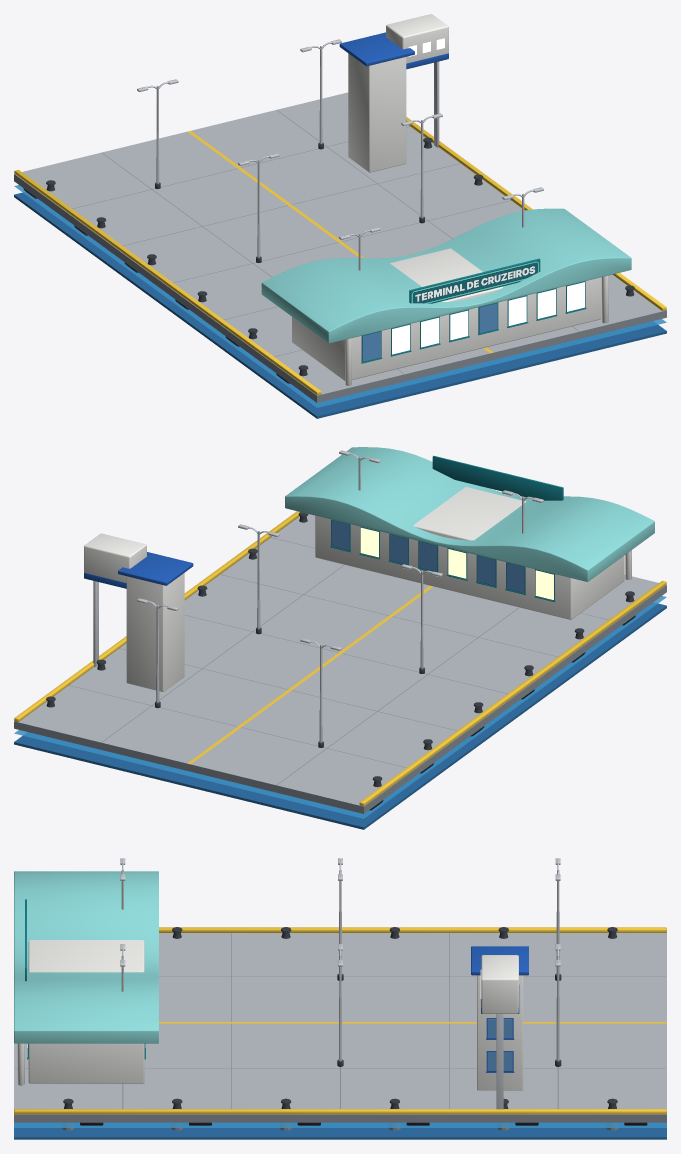
Rendered from pier_cruzeiro.glb.
3 renders of one model, top to bottom at view 1: azimuth 30°, elevation 25°; view 2: azimuth 150°, elevation 25°; view 3: azimuth 270°, elevation 25°, orthographic. The views are drawn at different scales.
Visible parts, largest first — view 1: pier_cruzeiro; view 2: pier_cruzeiro; view 3: pier_cruzeiro.
Boxes of the visible parts, x1,y1,x2,y2 form: pier_cruzeiro: (14, 14, 666, 418); pier_cruzeiro: (14, 447, 666, 829); pier_cruzeiro: (14, 858, 666, 1139).
Bounding box in the file's own units: 30 × 12.2 × 45.
7 materials, 2 textured.
